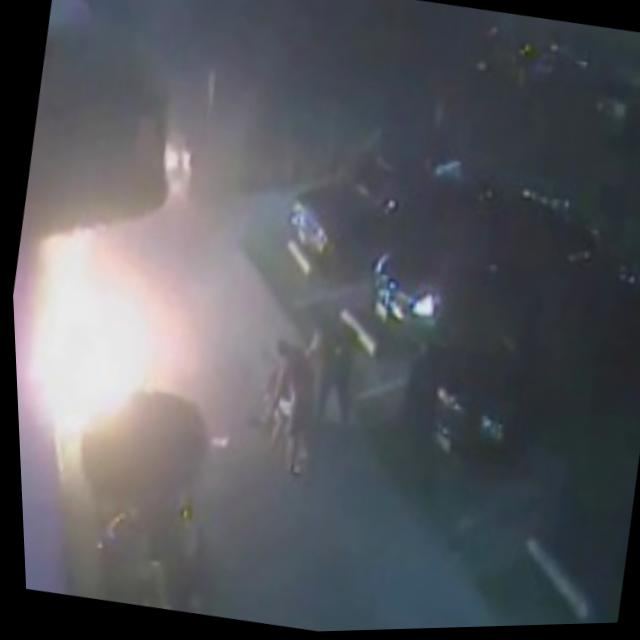fire: (15, 248, 168, 425)
